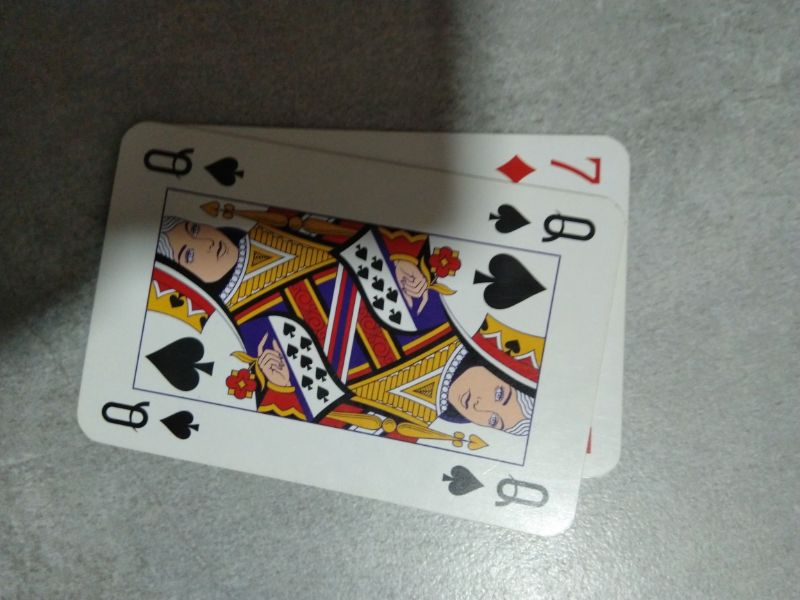7d: (491, 144, 608, 193)
Qs: (437, 454, 553, 516), (485, 196, 603, 255), (95, 389, 207, 447), (141, 140, 252, 194)
